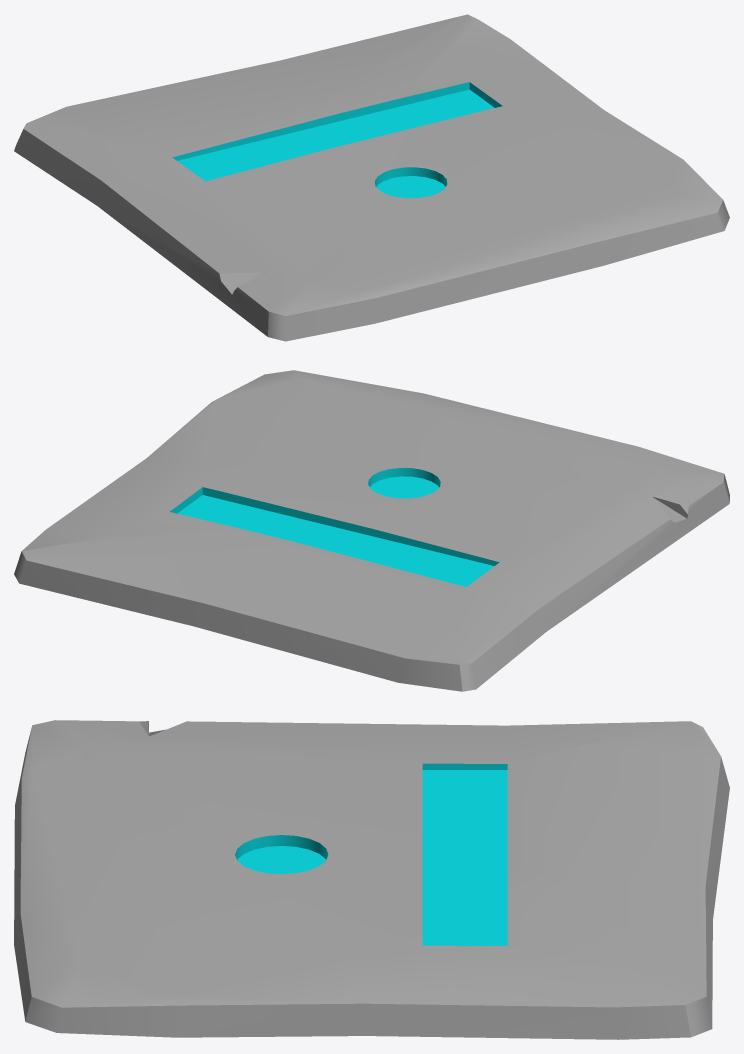
Rendered from dalle6.fbx.
3 views of the same model, one above another, from view 1: azimuth 30°, elevation 25°; view 2: azimuth 150°, elevation 25°; view 3: azimuth 270°, elevation 25° (orthographic). The views are drawn at different scales.
Visible parts, largest first — view 1: pCube5; view 2: pCube5; view 3: pCube5.
Boxes of the visible parts, bbox=[...] form: pCube5: bbox=[14, 14, 729, 341]; pCube5: bbox=[14, 370, 729, 691]; pCube5: bbox=[14, 720, 729, 1039].
Bounding box in the file's own units: 6.99 × 0.4395 × 7.18.
